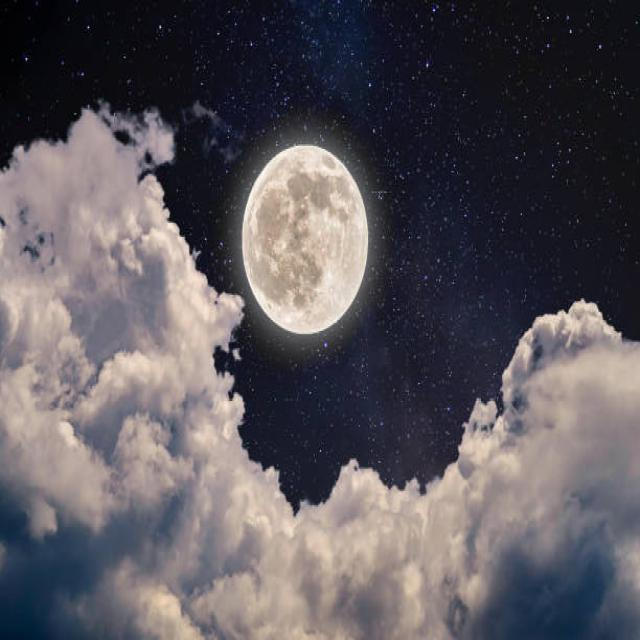moon: (238, 140, 368, 334)
